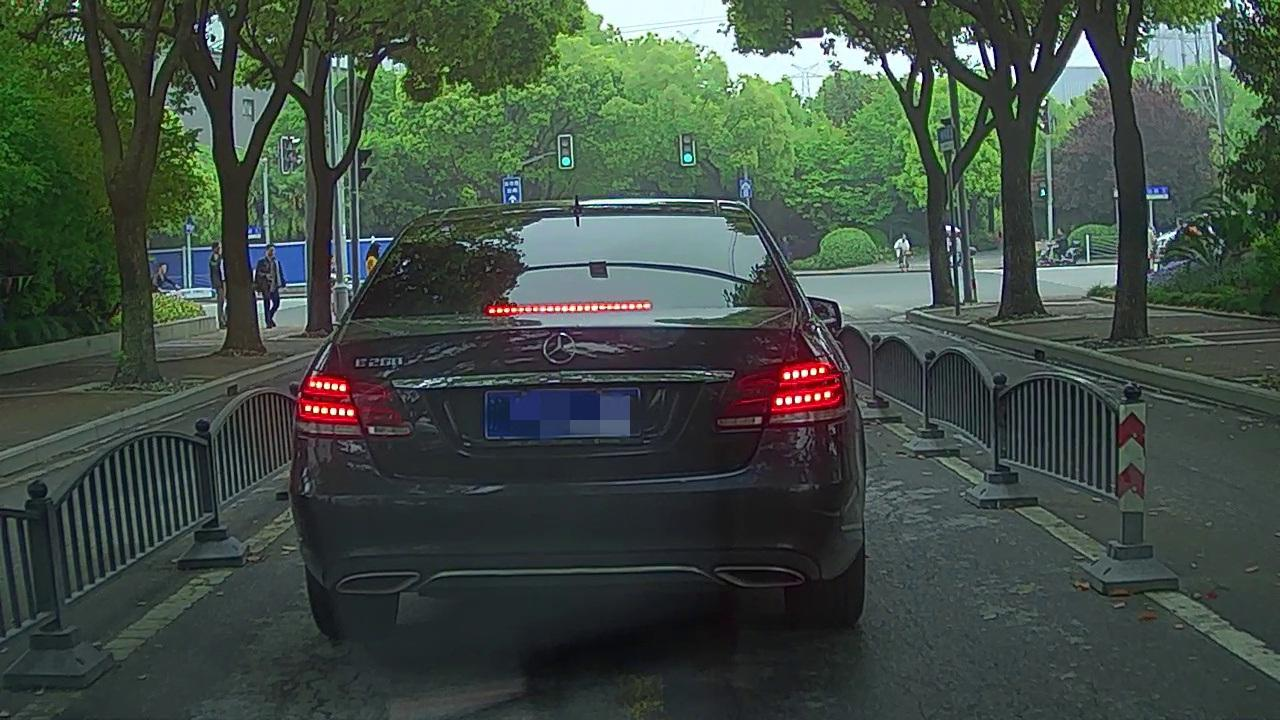traffic_light: (558, 136, 573, 168), (682, 131, 694, 165)
